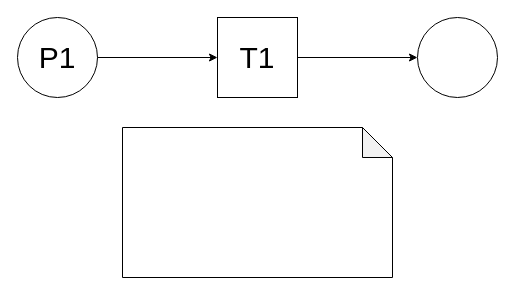
Some shapes in this 515 by 295 pixel diagram are drawn without their labels. The centre of each missing label's shape, as x and y in pixels:
"P2" goes at point 457,57.
"T1 view: ROLE_T1_VIEW run: ROLE_T1_RUN" goes at point 257,202.
